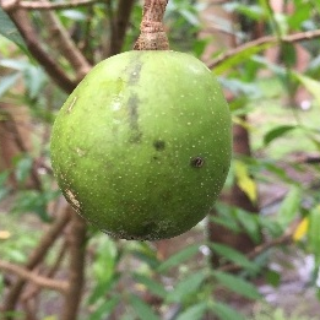coc: (51, 50, 235, 243)
